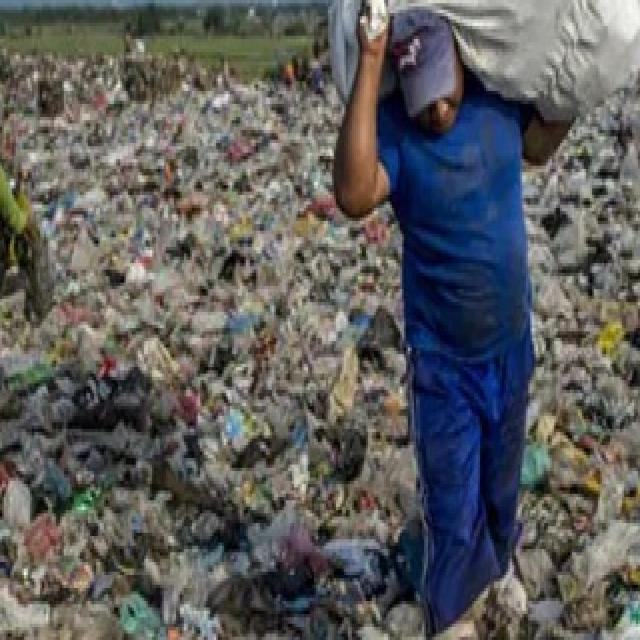-: (16, 86, 346, 533)
